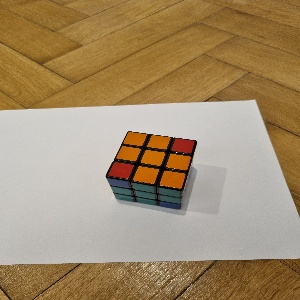cube: (104, 132, 201, 210)
